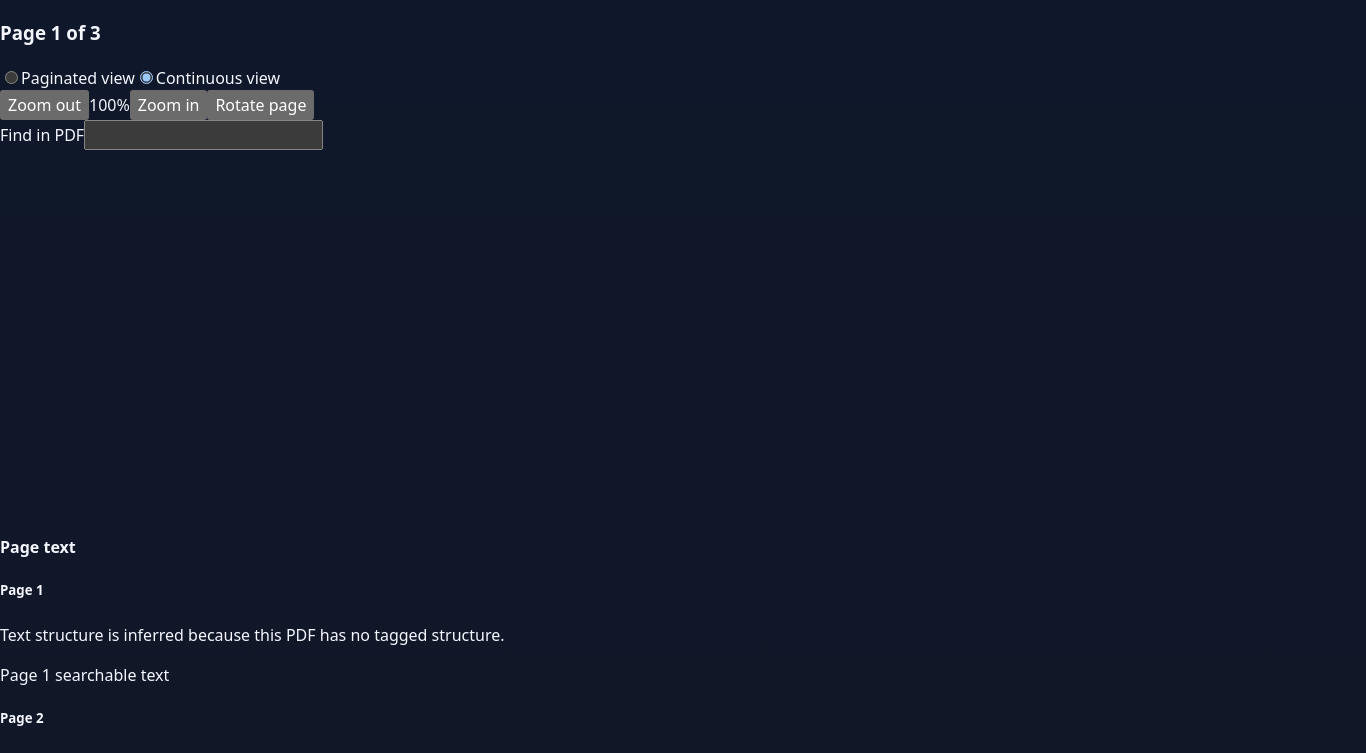
Test: PDF continuous view radio group › exposes one real heading per page in continuous view, in document order
The width and height of the screenshot is (1366, 753).
Expected: the text "Page 1 searchable text" below "Page text" is shown, [0,664,169,686]
Click the radio button labelled "Paginated view": [12, 77] box [5,70,18,84]
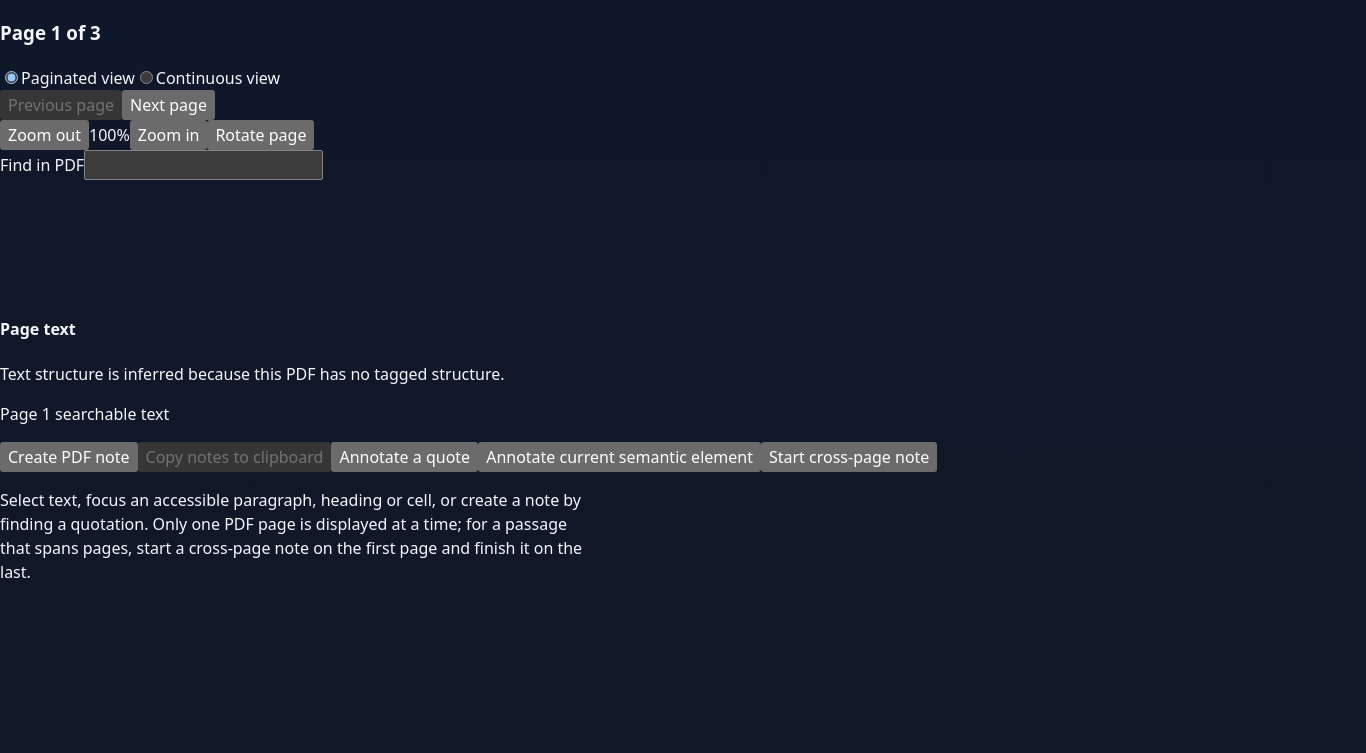
Expected: the heading "Page 3" is not shown
Now the heading "Page 2" is gone
Click the radio button labelled "Continuous view": [146, 77] box [140,70,153,84]
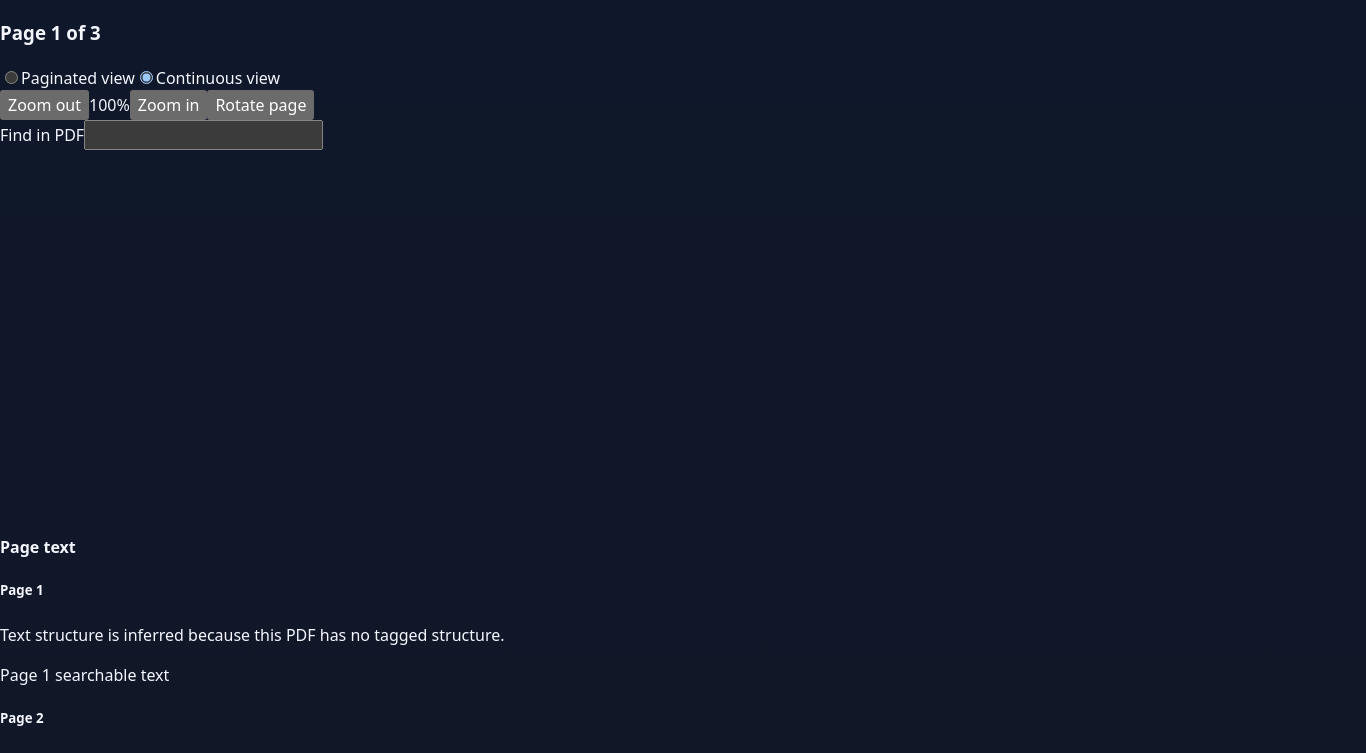
Now the text "Page 1 searchable text" is shown, box [0,664,169,686]
Note: Switching back removes the per-page headings with the other pages.
Click the radio button labelled "Paginated view": [12, 77] box [5,70,18,84]
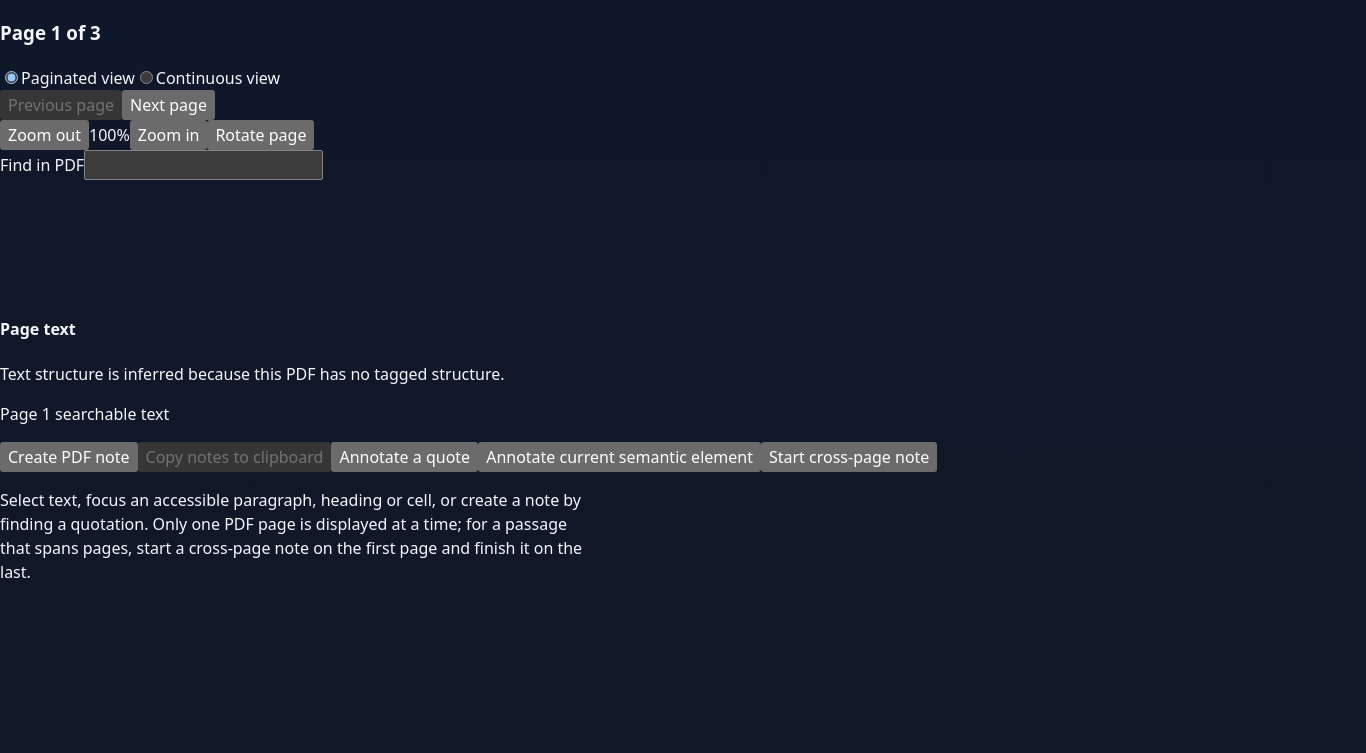
Expected: the heading "Page 3" is not shown
Now the heading "Page 2" is gone
